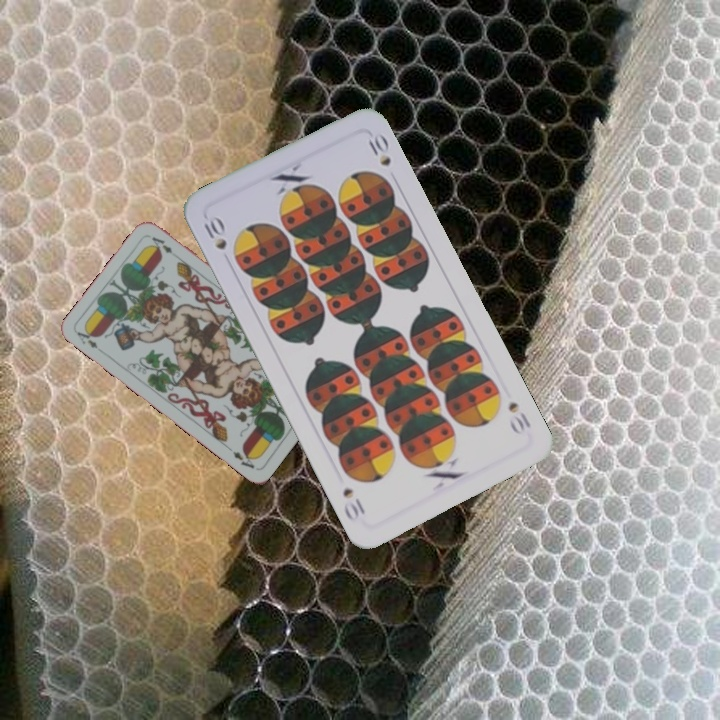EA: (73, 324, 100, 351)
S10: (199, 212, 230, 253), (504, 397, 534, 437)
